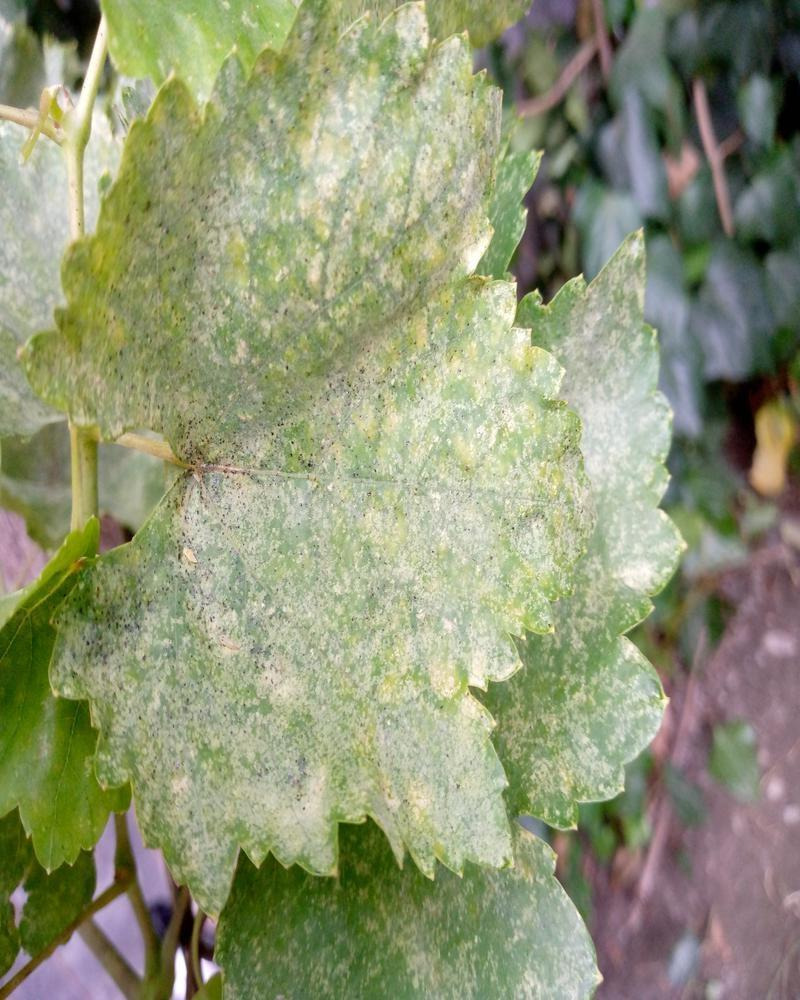Powdery-Mildew: (261, 7, 495, 281), (562, 357, 697, 601), (413, 394, 664, 519), (354, 480, 534, 636), (151, 405, 316, 565), (341, 618, 469, 759), (219, 584, 346, 711), (538, 642, 665, 769), (207, 730, 334, 857), (383, 730, 510, 857)
